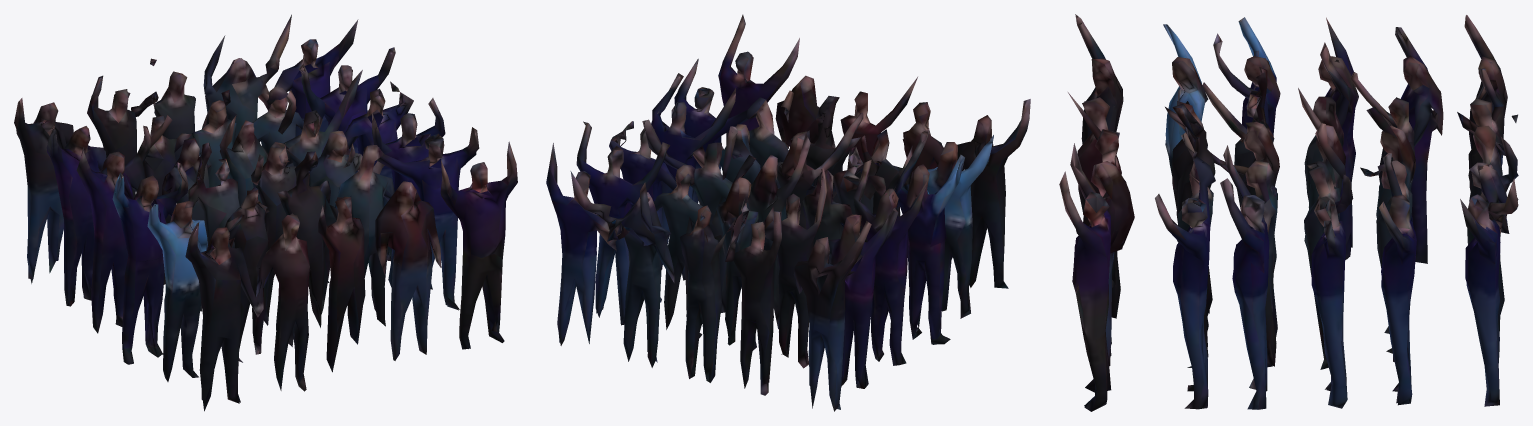
File: crowd-block-s2.glb
The picture shows the model from 3 angles, left to right: view 1: azimuth 30°, elevation 25°; view 2: azimuth 150°, elevation 25°; view 3: azimuth 270°, elevation 25°; orthographic projection. The views are drawn at different scales.
Visible parts, largest first — view 1: geometry_0; view 2: geometry_0; view 3: geometry_0.
Part boxes in pixels (x1,y1,x2,y2): geometry_0: (14,14,517,411); geometry_0: (546,14,1030,411); geometry_0: (1059,14,1518,411).
Bounding box in the file's own units: 0.9439 × 0.5607 × 0.9794.
Materials: 1 (1 with a texture image).
